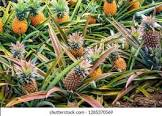Pineapple: (64, 60, 90, 92), (12, 2, 27, 32)
